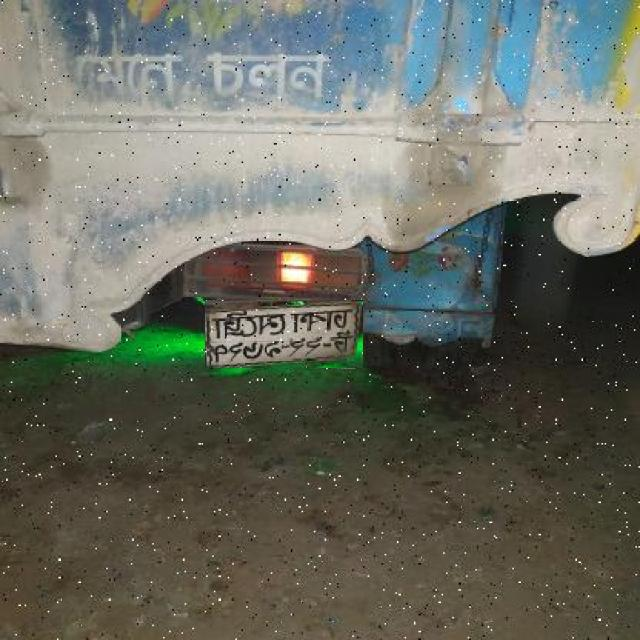numberplate: (205, 300, 363, 368)
